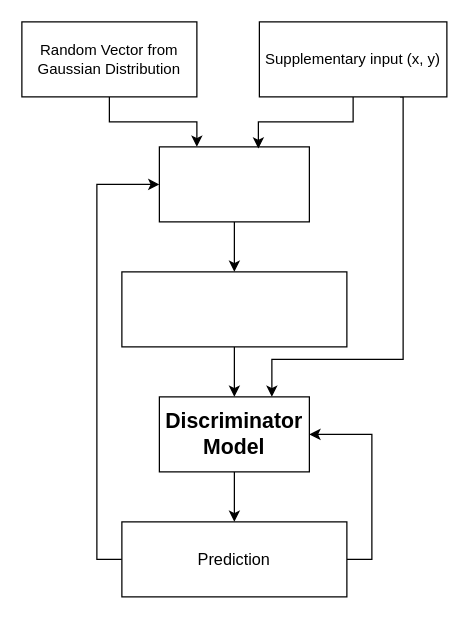
This 469x619 diagram has some shape labels left out. Each missing label, with the box of its shape:
Generated Output: (121, 271, 347, 347)
Generator Model: (158, 146, 309, 222)
